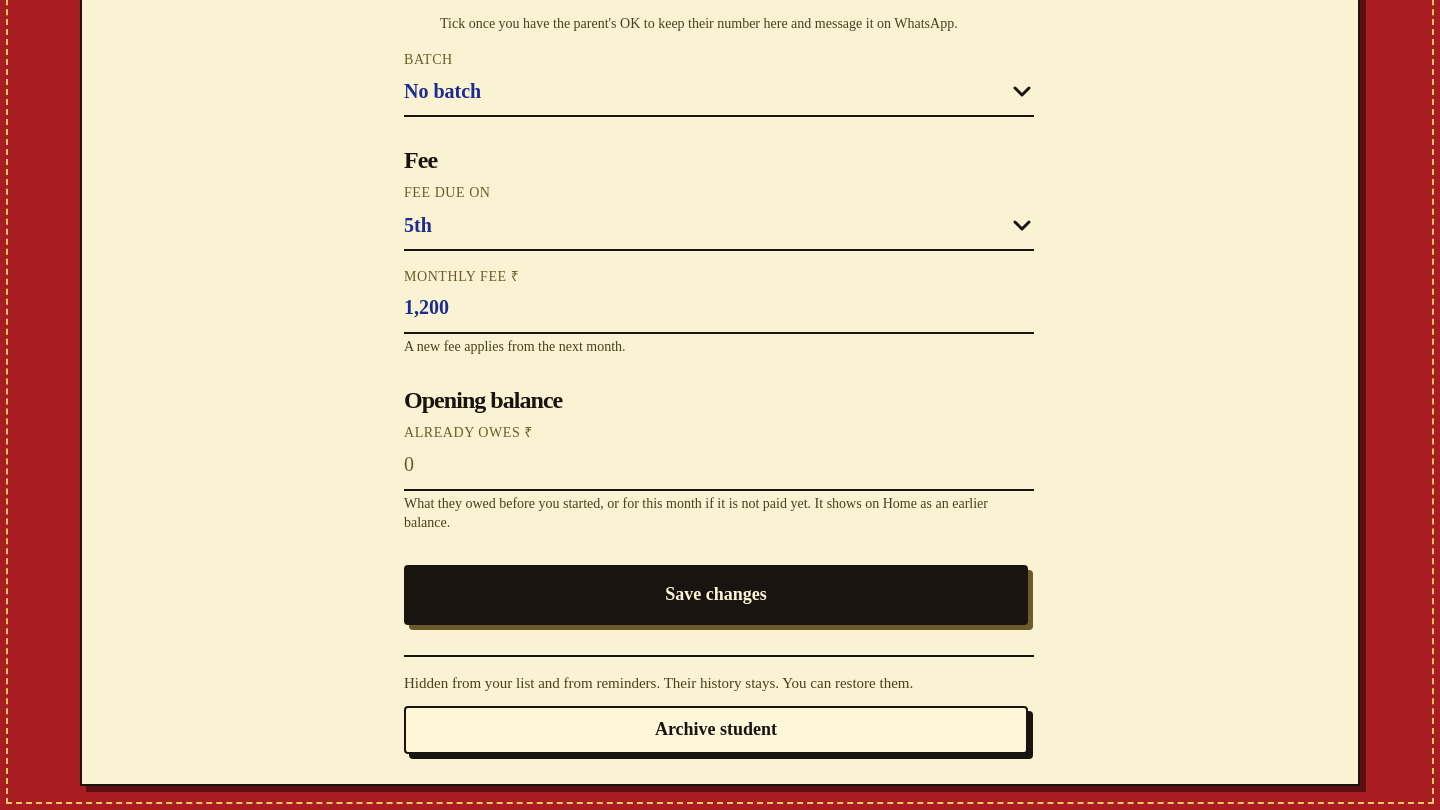
Scenario: archive and restore › says the student cannot be found when no row changed
The width and height of the screenshot is (1440, 810).
(page scrolled)
What coordinates should you click on to do the following:
click the button "Archive student"
I would click on:
 (716, 730)
Its box is x1=404 y1=706 x2=1028 y2=754.
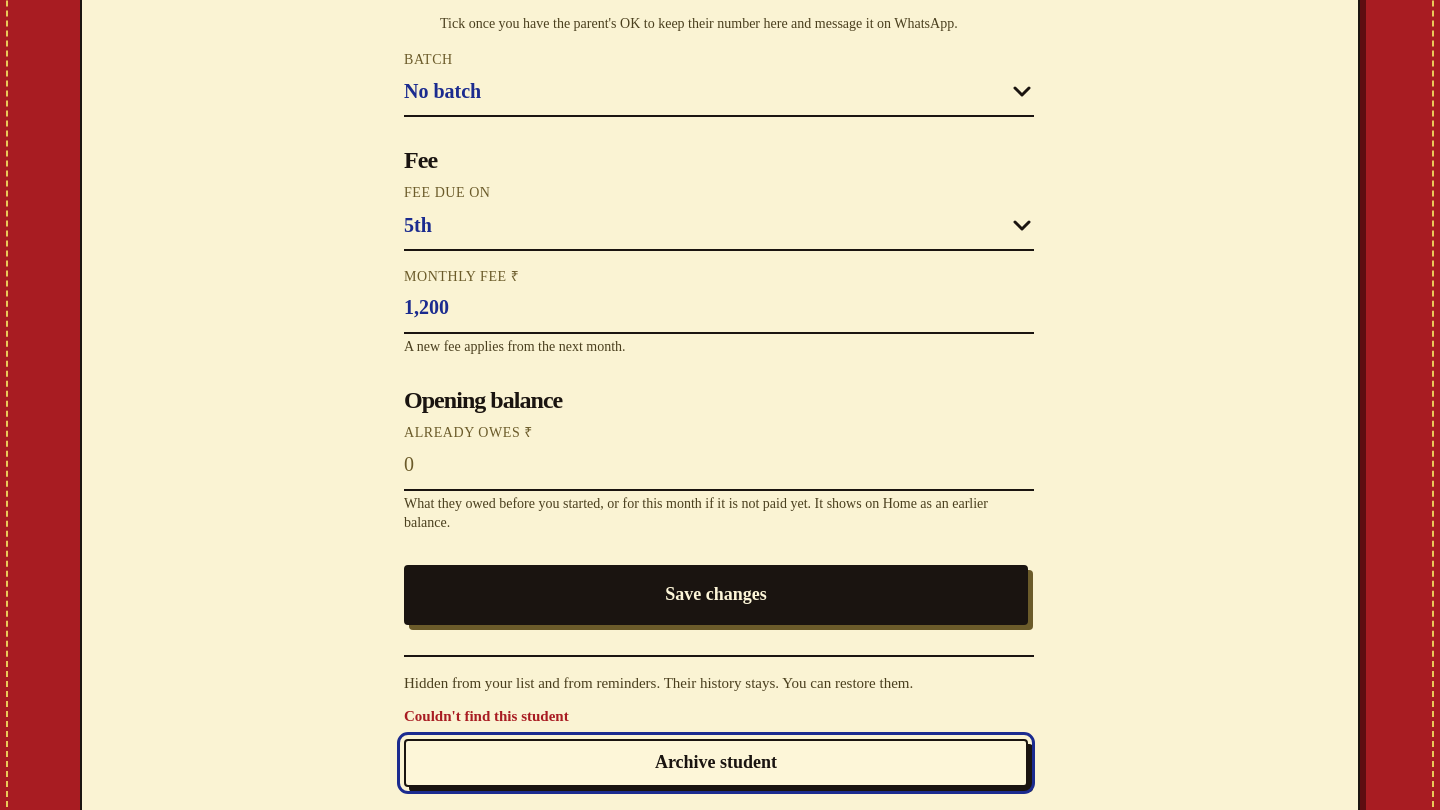
Expected: the message reads "Couldn't find this student", x1=404 y1=708 x2=569 y2=724
